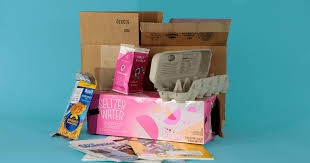paper: (75, 6, 246, 141), (83, 90, 226, 147), (48, 63, 107, 142), (108, 40, 152, 95), (125, 134, 216, 160)
